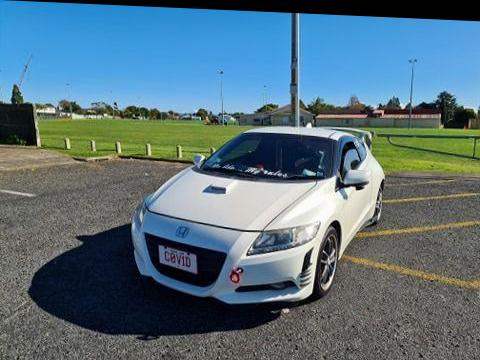License_Plate: (157, 243, 200, 275)
